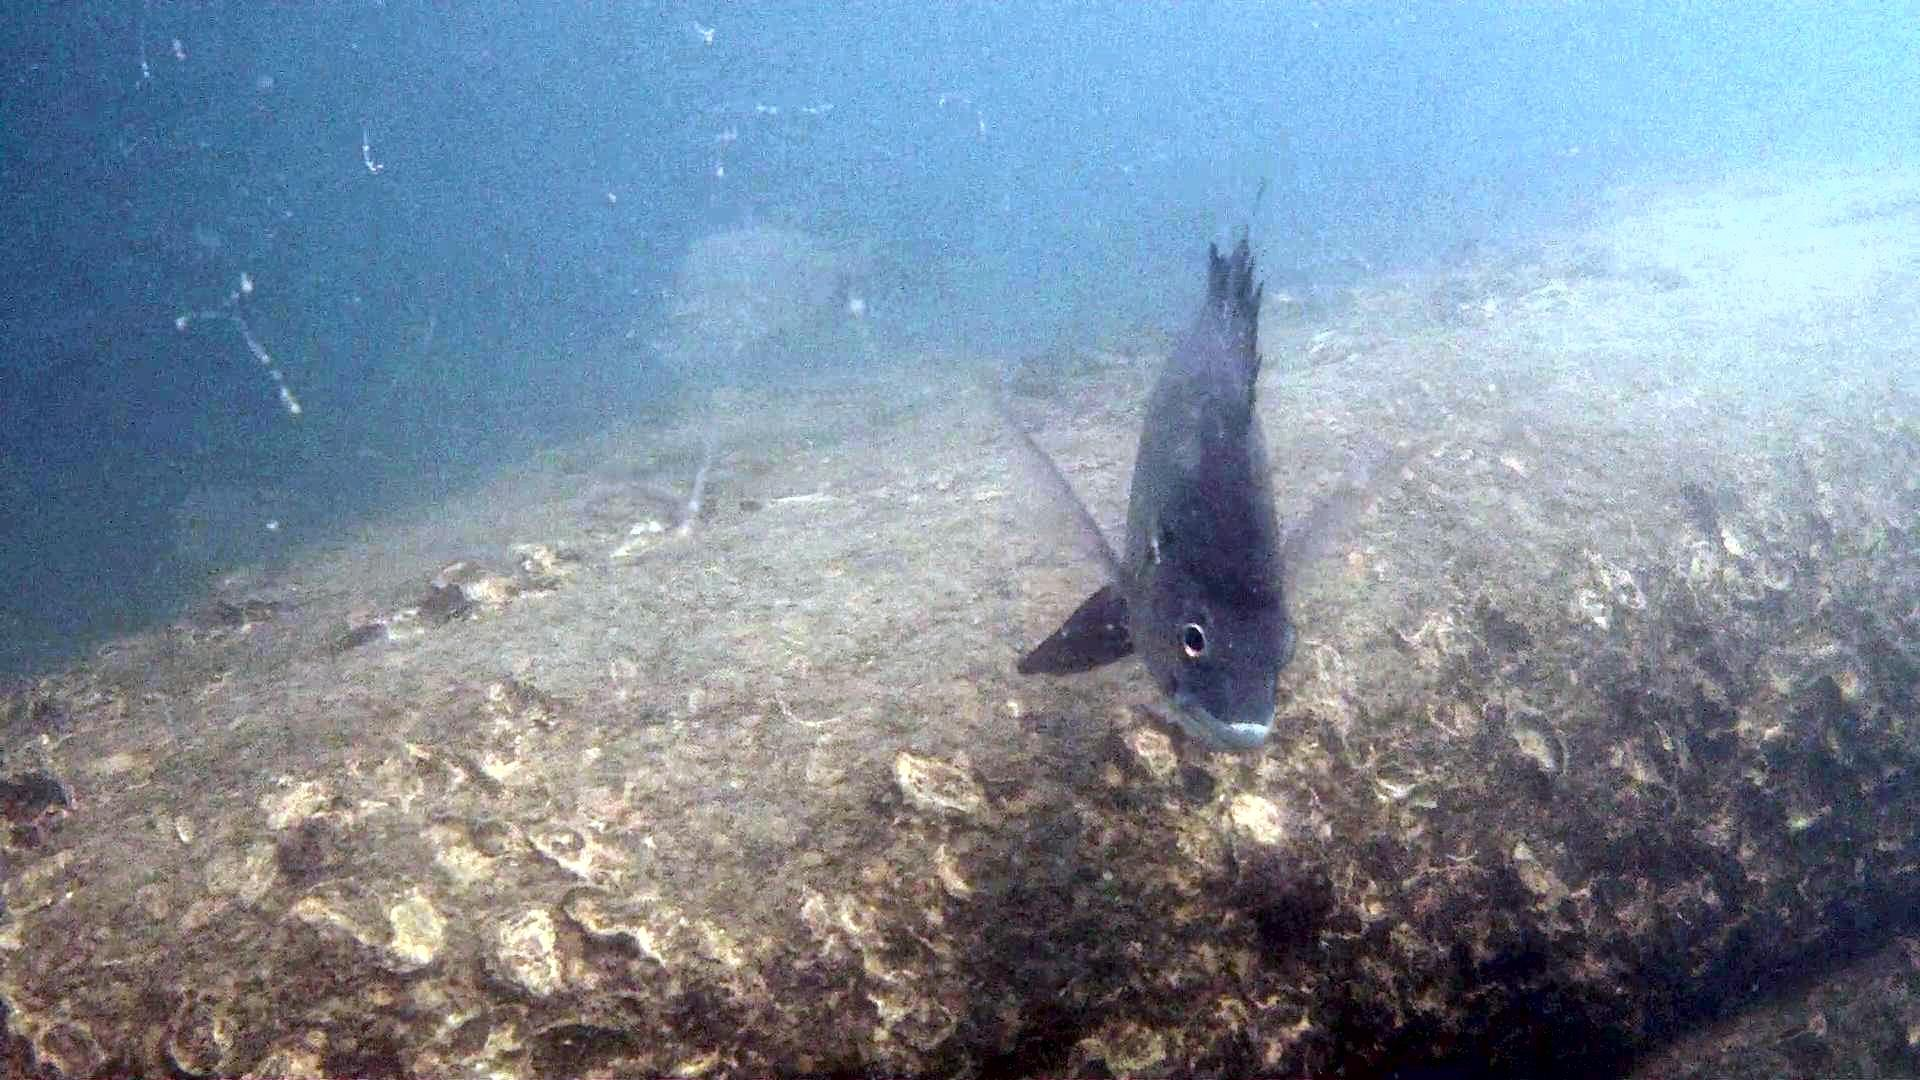acanthopagrus palmaris: (951, 207, 1435, 765)
